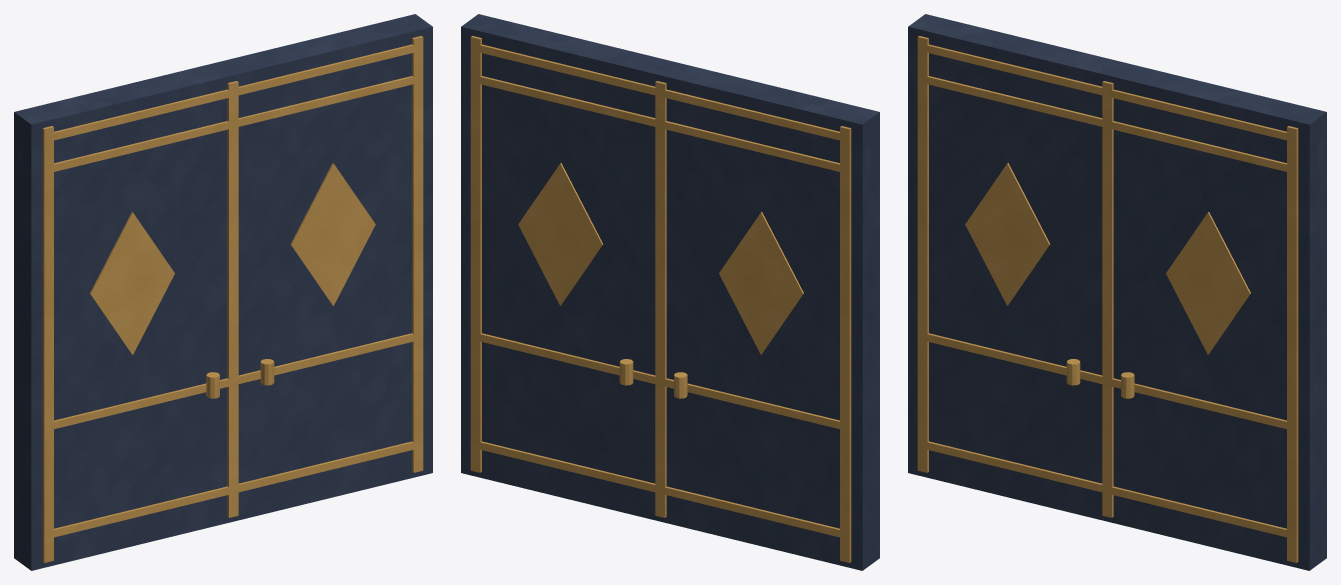
File: SM_Theater_Door_ClosedDouble.fbx
3 views of the same model, side by side, from view 1: azimuth 30°, elevation 25°; view 2: azimuth 150°, elevation 25°; view 3: azimuth 330°, elevation 25° (orthographic).
Visible parts, largest first — view 1: SM_Theater_Door_ClosedDouble_LOD0; view 2: SM_Theater_Door_ClosedDouble_LOD0; view 3: SM_Theater_Door_ClosedDouble_LOD0.
Part boxes in pixels (<box>): SM_Theater_Door_ClosedDouble_LOD0: <box>14,14,432,570</box>; SM_Theater_Door_ClosedDouble_LOD0: <box>461,14,879,570</box>; SM_Theater_Door_ClosedDouble_LOD0: <box>908,14,1326,570</box>.
Size of what is drawn, in the model's own units: 4 by 4.25 by 0.6922.
